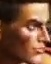kevin: (6, 0, 50, 63)
